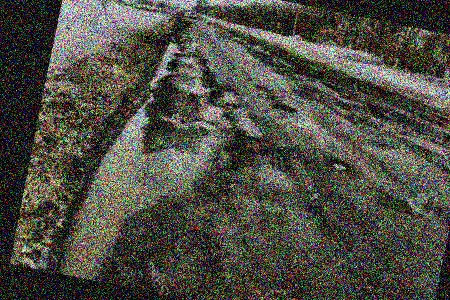pothole: (189, 115, 220, 133), (272, 100, 300, 114), (330, 157, 352, 173), (225, 101, 238, 110)
